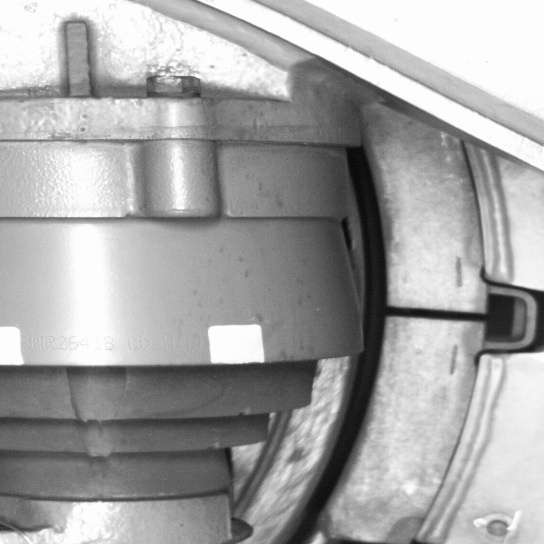KnifeSwitch: (268, 143, 501, 544)
